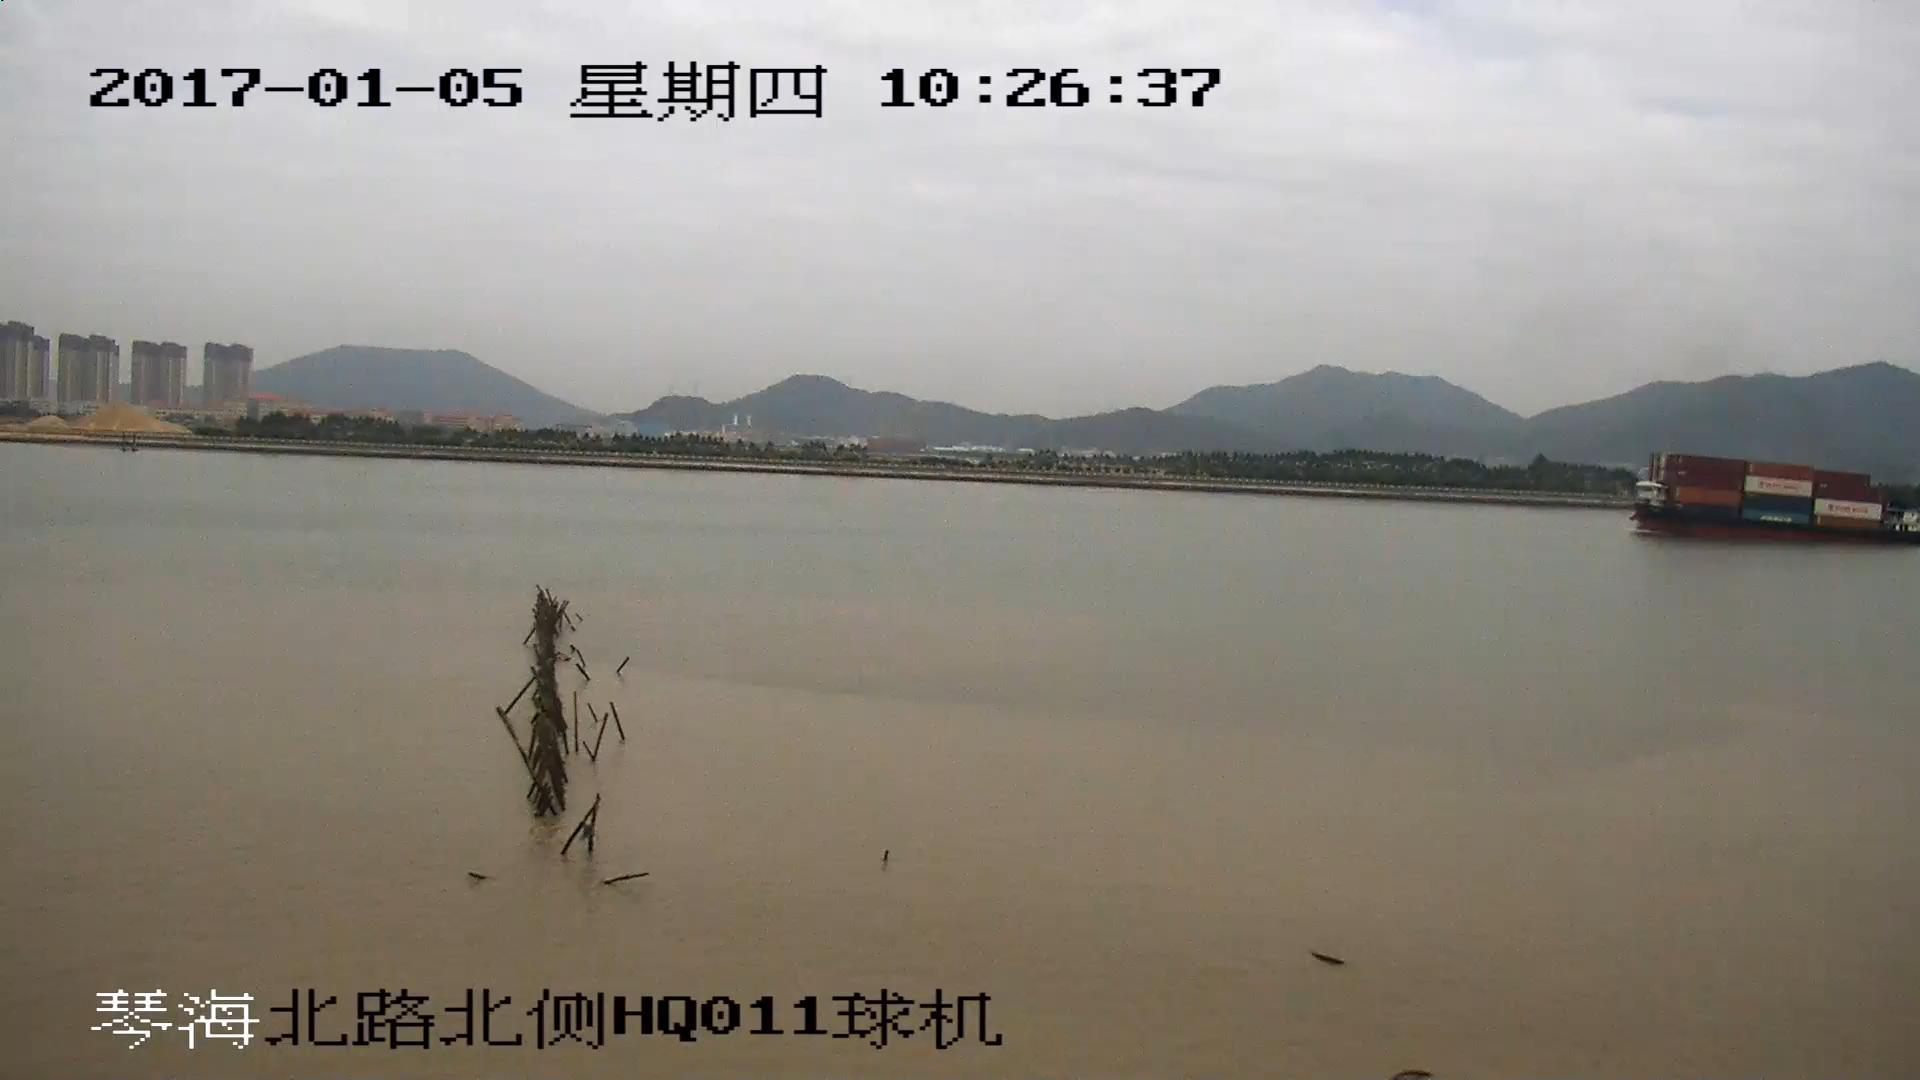Ship: (1625, 458, 1920, 545)
